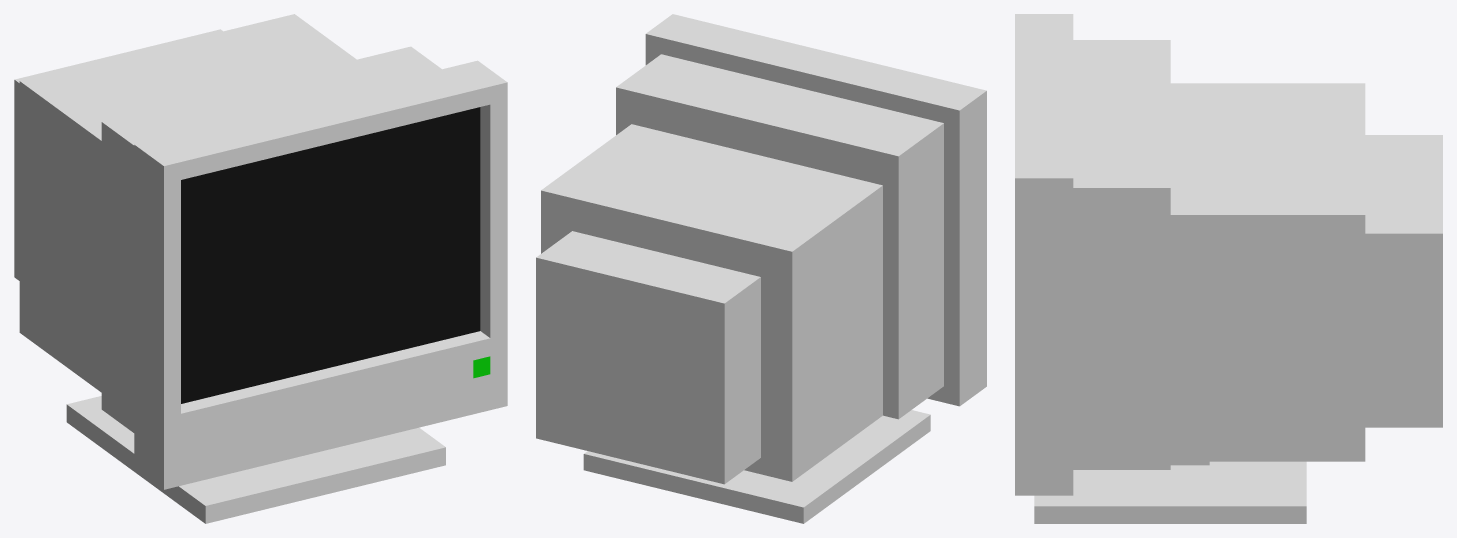
Rendered from Monitor.glb.
The picture shows the model from 3 angles, left to right: view 1: azimuth 30°, elevation 25°; view 2: azimuth 150°, elevation 25°; view 3: azimuth 270°, elevation 25°; orthographic projection. The views are drawn at different scales.
Parts seen in each view (by area): view 1: Untitled; view 2: Untitled; view 3: Untitled.
Boxes of the visible parts, box(x1,y1,x2,y2) form: Untitled: box(14, 14, 507, 523); Untitled: box(536, 14, 986, 523); Untitled: box(1015, 14, 1442, 523).
Bounding box in the file's own units: 2 × 2.1 × 2.2.
Materials: 1 (1 with a texture image).
